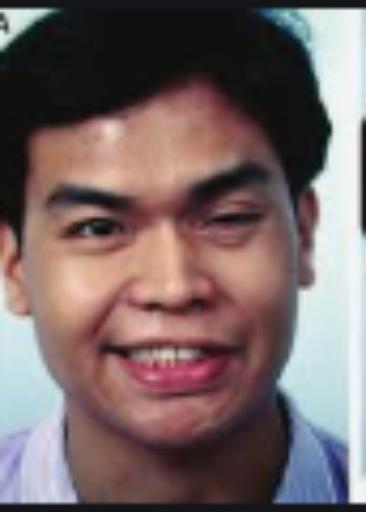left_eye: (205, 206, 266, 236)
left_lip_corner: (224, 338, 256, 365)
right_eye: (55, 217, 134, 249)
right_lip_corner: (91, 337, 124, 364)
